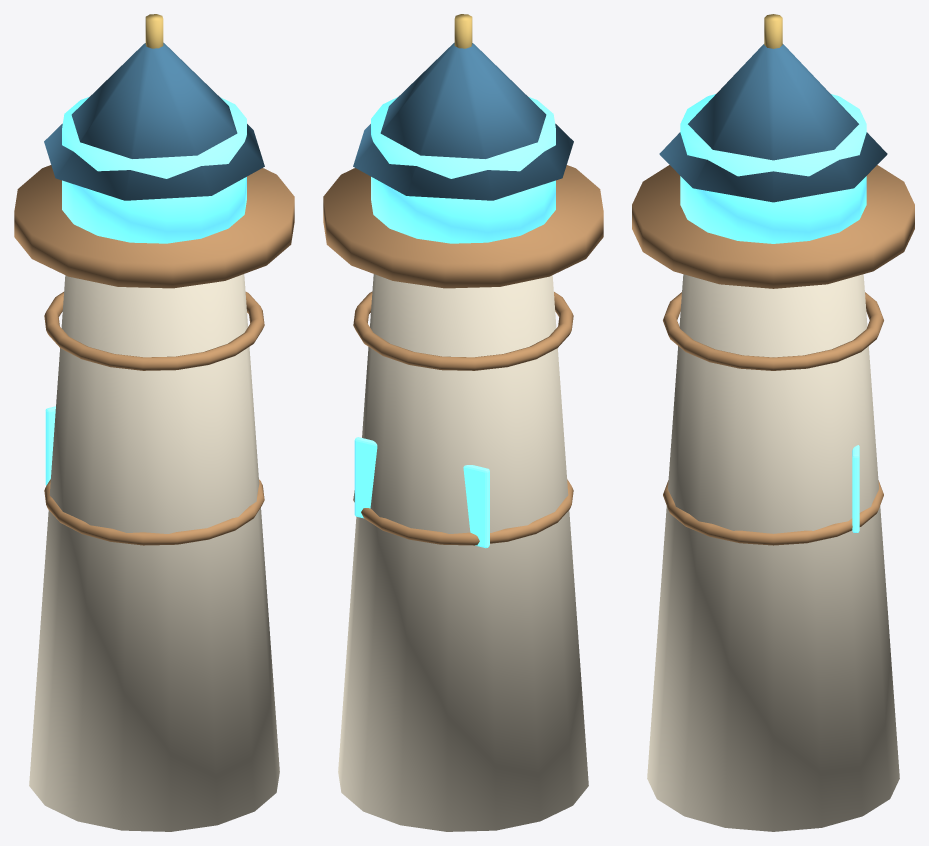
File: lighthouse_beacon.glb
The picture shows the model from 3 angles, left to right: view 1: azimuth 30°, elevation 25°; view 2: azimuth 150°, elevation 25°; view 3: azimuth 270°, elevation 25°; orthographic projection.
Visible parts, largest first — view 1: Lighthouse_Tower, Lighthouse_Roof, Lighthouse_Gallery, Lighthouse_Lantern, Lighthouse_Ring.002, Lighthouse_Ring.001, Lighthouse_Window, Lighthouse_Star; view 2: Lighthouse_Tower, Lighthouse_Roof, Lighthouse_Gallery, Lighthouse_Lantern, Lighthouse_Ring.002, Lighthouse_Ring.001, Lighthouse_Window, Lighthouse_Window.001, Lighthouse_Star; view 3: Lighthouse_Tower, Lighthouse_Roof, Lighthouse_Gallery, Lighthouse_Lantern, Lighthouse_Ring.002, Lighthouse_Ring.001, Lighthouse_Window.001, Lighthouse_Star.
Part boxes in pixels (x1=…): Lighthouse_Tower: x1=29, y1=274, x2=279, y2=831; Lighthouse_Roof: x1=44, y1=42, x2=264, y2=200; Lighthouse_Gallery: x1=14, y1=165, x2=294, y2=288; Lighthouse_Lantern: x1=62, y1=97, x2=246, y2=243; Lighthouse_Ring.002: x1=44, y1=292, x2=264, y2=370; Lighthouse_Ring.001: x1=44, y1=479, x2=264, y2=545; Lighthouse_Window: x1=45, y1=406, x2=55, y2=485; Lighthouse_Star: x1=145, y1=14, x2=163, y2=48; Lighthouse_Tower: x1=338, y1=274, x2=588, y2=831; Lighthouse_Roof: x1=353, y1=42, x2=573, y2=200; Lighthouse_Gallery: x1=323, y1=165, x2=603, y2=288; Lighthouse_Lantern: x1=371, y1=97, x2=555, y2=243; Lighthouse_Ring.002: x1=353, y1=292, x2=573, y2=370; Lighthouse_Ring.001: x1=353, y1=479, x2=573, y2=545; Lighthouse_Window: x1=463, y1=465, x2=489, y2=548; Lighthouse_Window.001: x1=354, y1=437, x2=377, y2=518; Lighthouse_Star: x1=454, y1=14, x2=472, y2=48; Lighthouse_Tower: x1=647, y1=274, x2=899, y2=831; Lighthouse_Roof: x1=659, y1=44, x2=887, y2=202; Lighthouse_Gallery: x1=632, y1=165, x2=914, y2=288; Lighthouse_Lantern: x1=680, y1=94, x2=866, y2=243; Lighthouse_Ring.002: x1=663, y1=292, x2=883, y2=370; Lighthouse_Ring.001: x1=663, y1=480, x2=883, y2=545; Lighthouse_Window.001: x1=852, y1=445, x2=859, y2=532; Lighthouse_Star: x1=764, y1=14, x2=782, y2=48.
Size of the model in its own units: 4.7 by 13.95 by 4.7.
